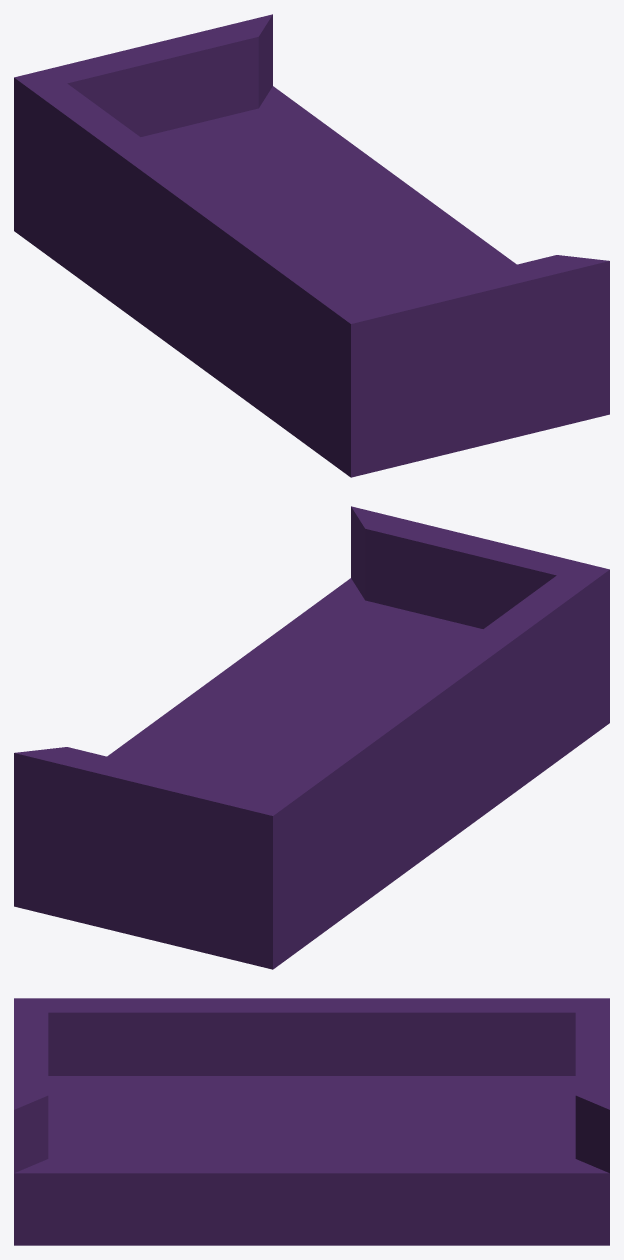
Rendered from Sofa.fbx.
The picture shows the model from 3 angles, top to bottom: view 1: azimuth 30°, elevation 25°; view 2: azimuth 150°, elevation 25°; view 3: azimuth 270°, elevation 25°; orthographic projection. The views are drawn at different scales.
Parts seen in each view (by area): view 1: Plane.108; view 2: Plane.108; view 3: Plane.108.
Part boxes in pixels (x1,y1,x2,y2): Plane.108: [14, 14, 609, 477]; Plane.108: [14, 506, 609, 969]; Plane.108: [14, 998, 609, 1245].
Bounding box in the file's own units: 11.1 × 6.29 × 25.
